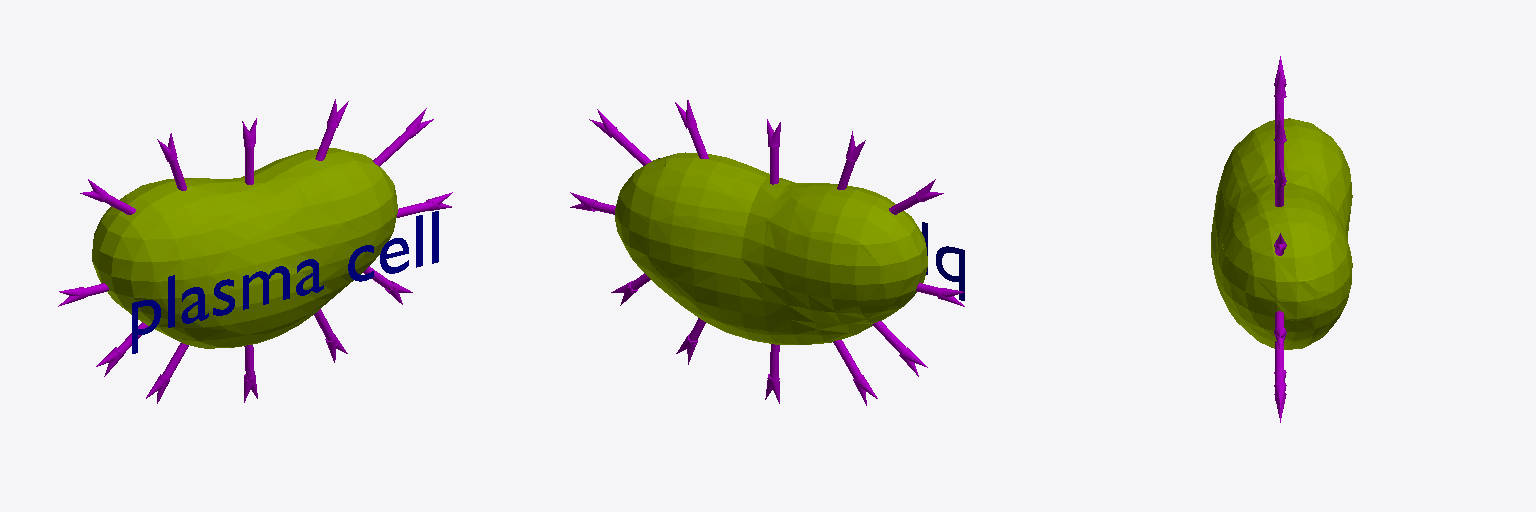
The model's file is plasmacell.obj.
3 renders of one model, left to right at view 1: azimuth 30°, elevation 25°; view 2: azimuth 150°, elevation 25°; view 3: azimuth 270°, elevation 25°, orthographic.
Visible parts, largest first — view 1: Mball, Text; view 2: Mball, Text; view 3: Mball.
Part boxes in pixels (bbox=[...]): Mball: bbox=[92, 148, 397, 348]; Text: bbox=[132, 211, 438, 353]; Mball: bbox=[615, 152, 927, 344]; Text: bbox=[658, 158, 964, 300]; Mball: bbox=[1211, 118, 1352, 349].
Bounding box in the file's own units: 9.13 × 6.41 × 2.9.